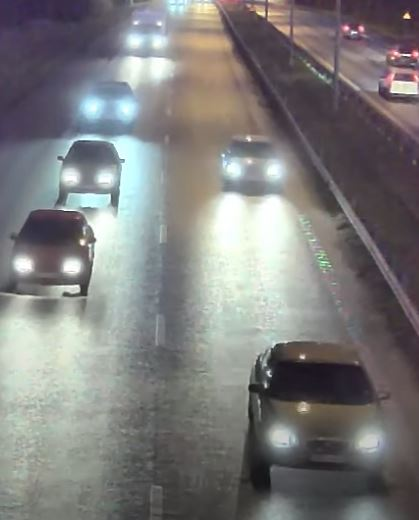Car: (247, 341, 392, 486), (7, 209, 94, 297), (57, 139, 123, 207), (220, 135, 282, 189), (77, 79, 136, 130)
